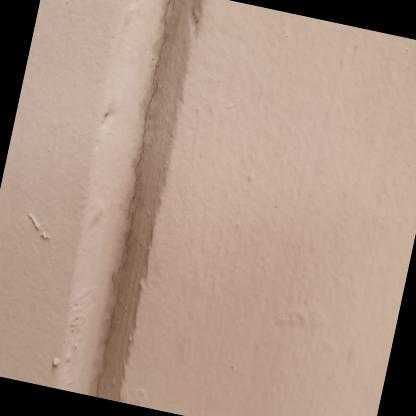crack: (92, 0, 173, 395)
